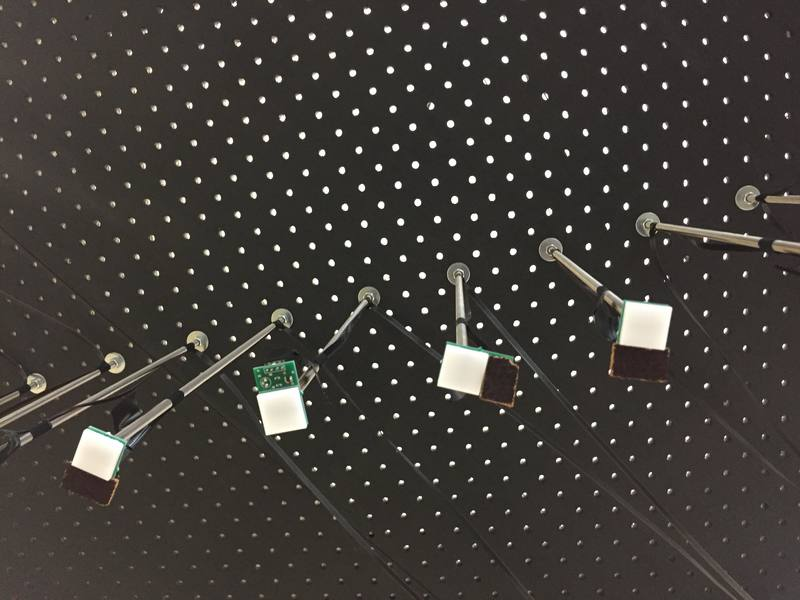target: (619, 296, 673, 353), (434, 342, 487, 397), (72, 428, 124, 481), (255, 390, 306, 431)
